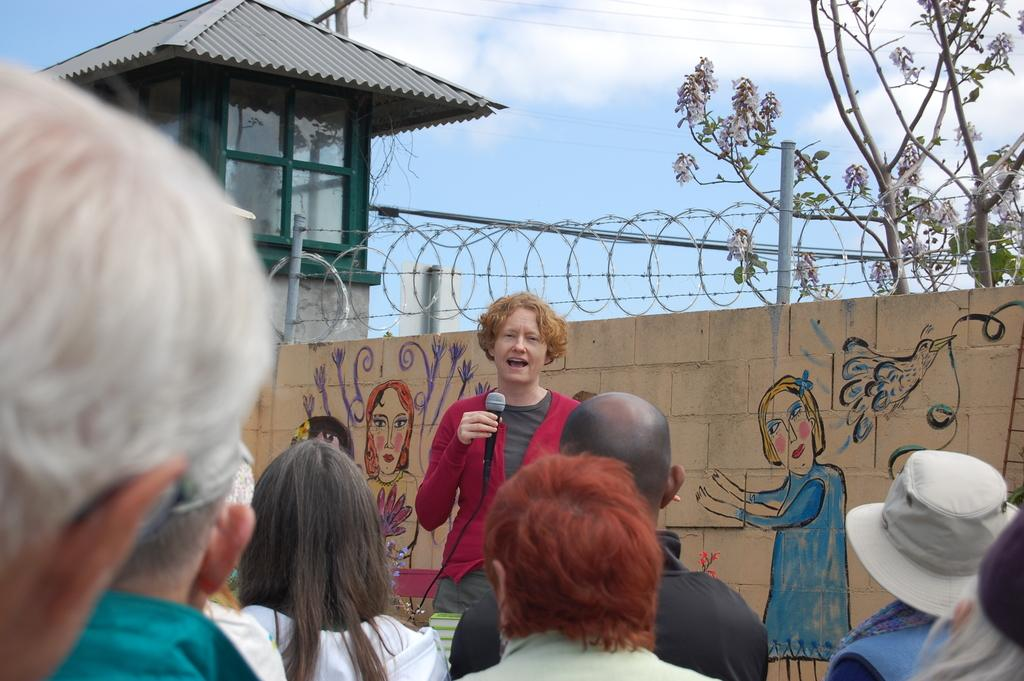Hat: (846, 448, 1023, 620)
